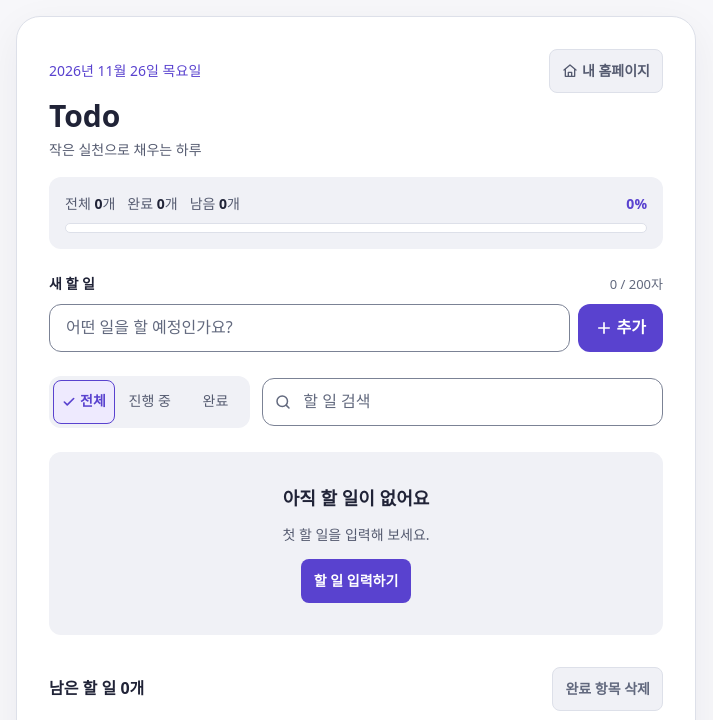
Test: TodoList 앱 통합 테스트 › HTML 태그가 포함된 입력도 실행하지 않고 일반 텍스트로 안전하게 렌더링한다
In the field labelled "새 할 일": (309, 328) top-left (49, 304), bottom-right (570, 352), type "<img src=x onerror=alert(1)>"
Then press Enter
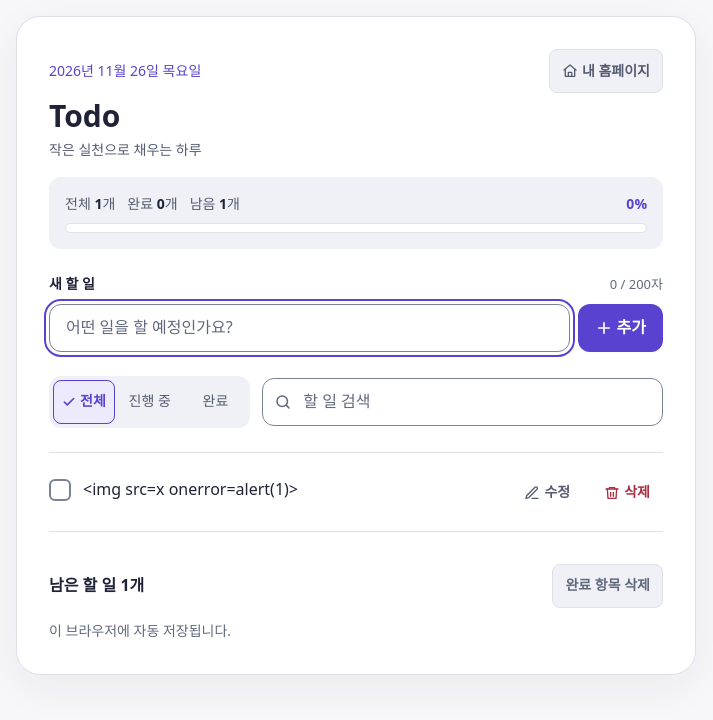
Now the text "<img src=x onerror=alert(1)>" is shown, box top-left (83, 478), bottom-right (298, 500)
